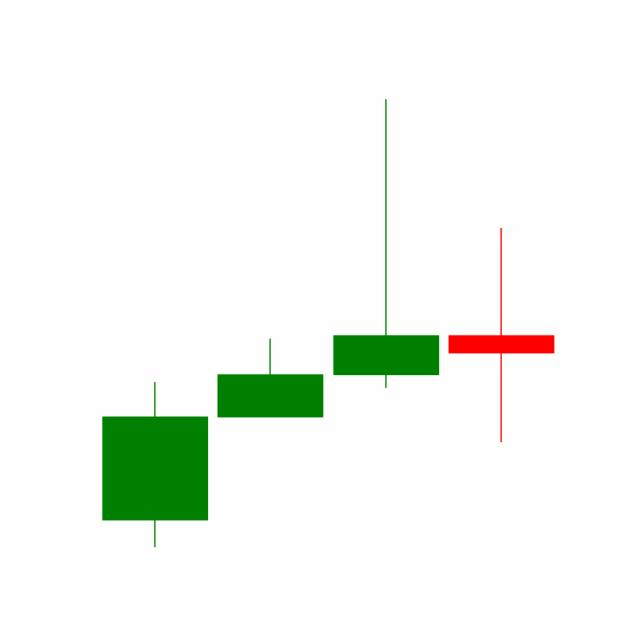Spinning Top: (443, 225, 559, 444)
